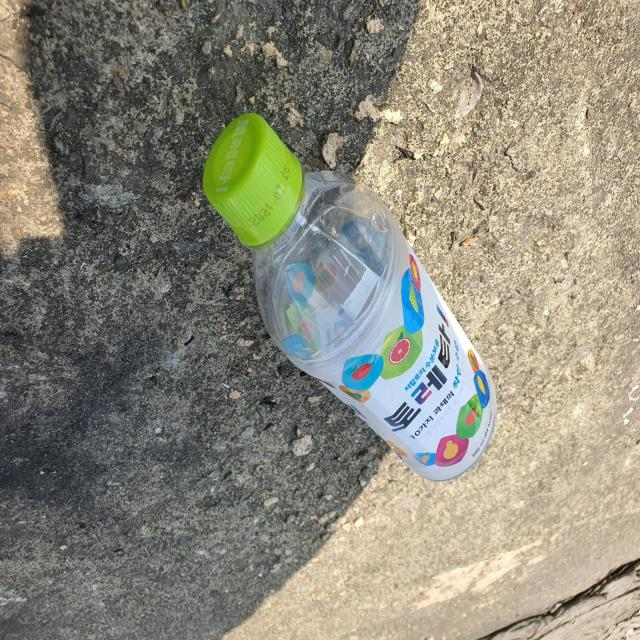plastic: (203, 112, 497, 481)
